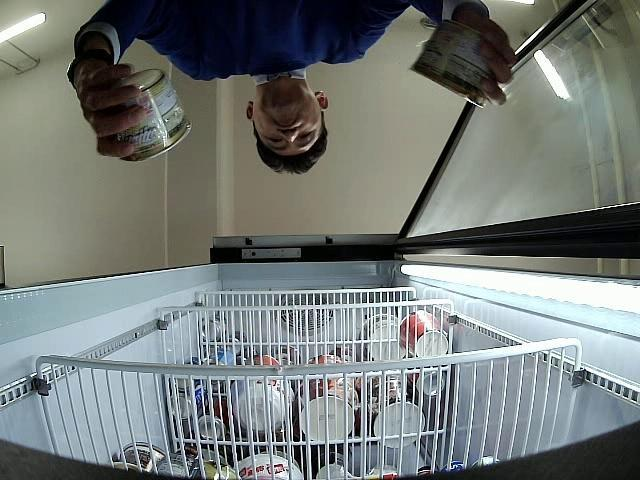04_chapagetti_S: (110, 70, 192, 162), (408, 21, 492, 108)
